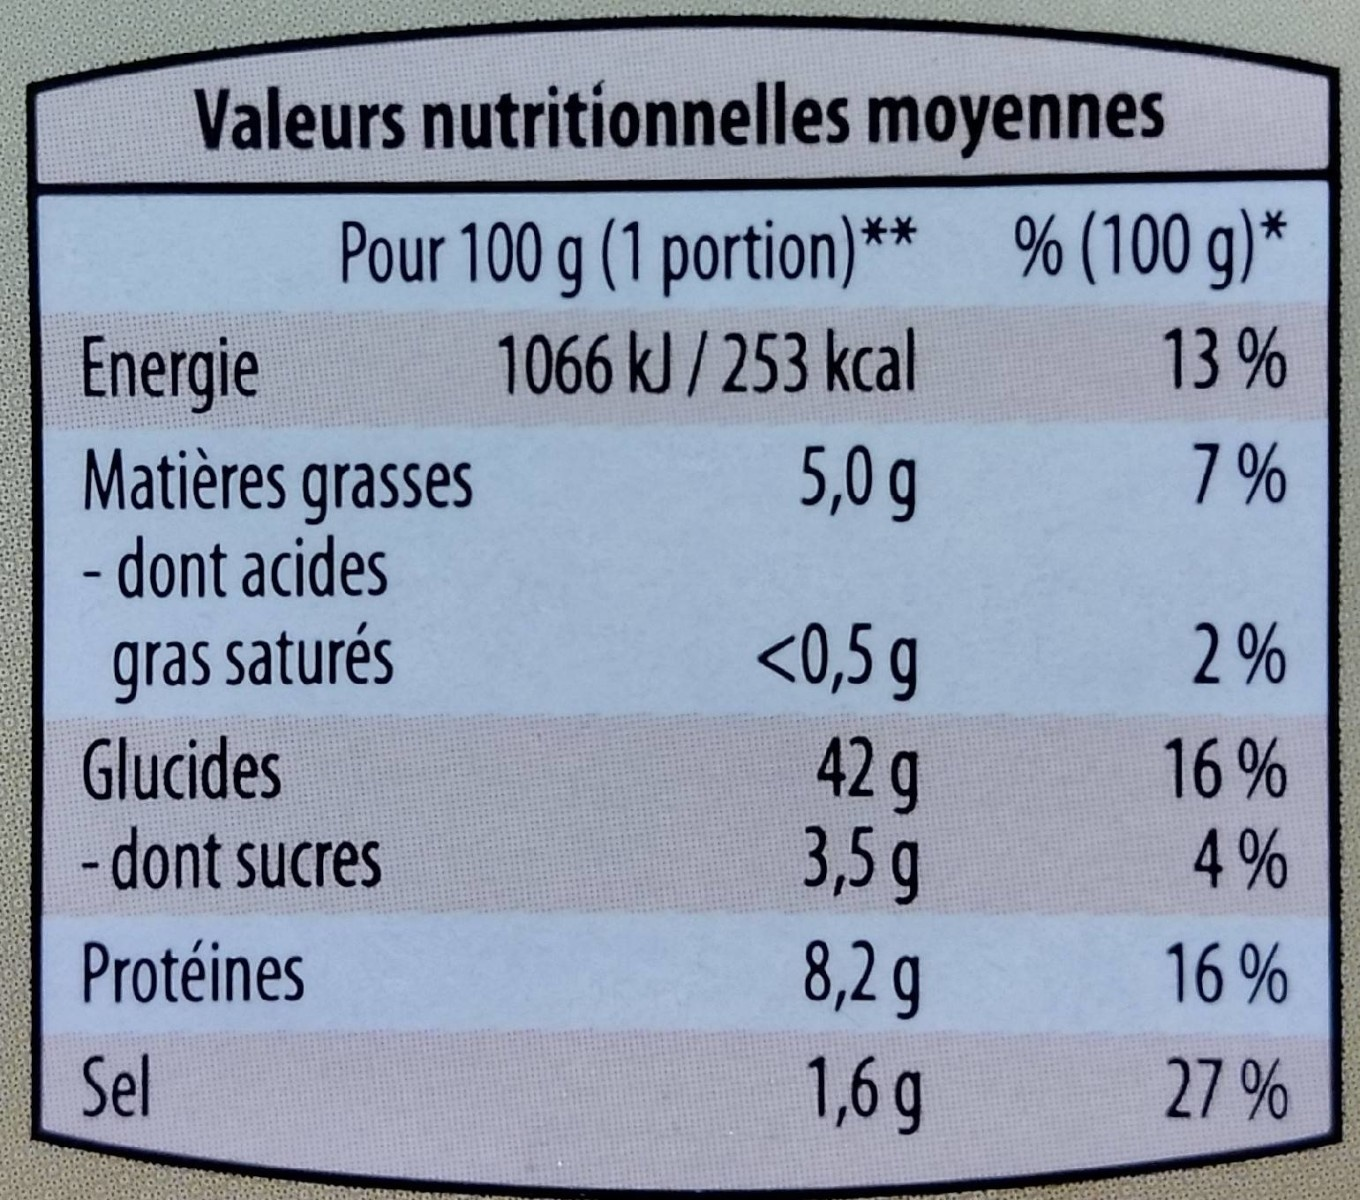column: (488, 310, 950, 1168), (39, 325, 477, 1153), (984, 307, 1328, 1175)
table: (24, 190, 1337, 1150)
